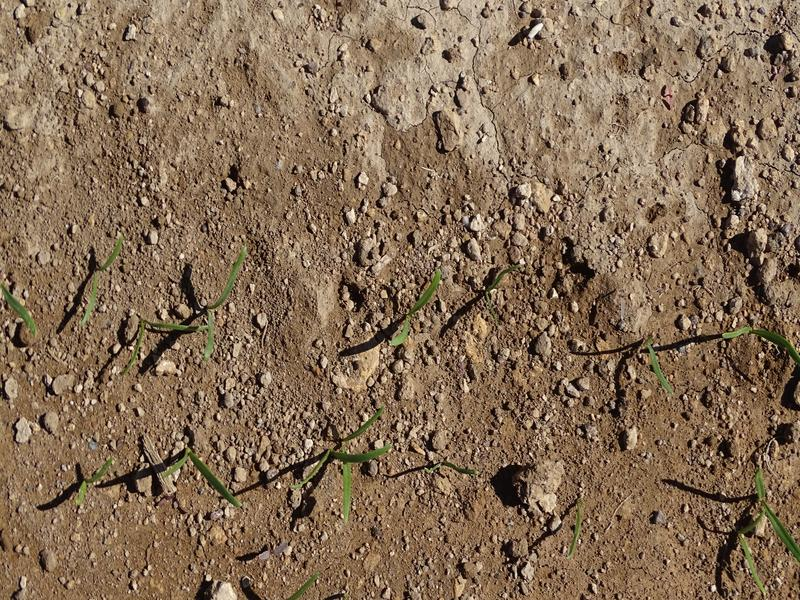Espinaca: (302, 406, 389, 516), (733, 467, 798, 594), (195, 249, 254, 363), (170, 444, 249, 524), (126, 307, 208, 372), (71, 237, 128, 323), (387, 269, 443, 351), (717, 318, 797, 368), (642, 332, 679, 400)
